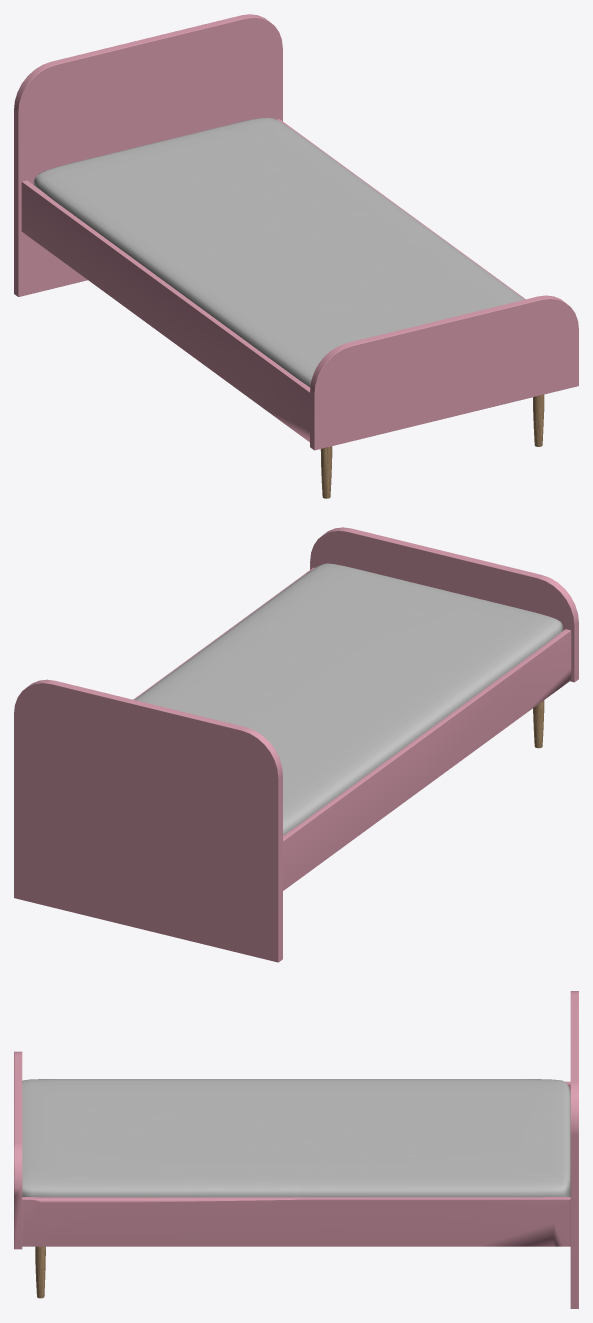
Rendered from B0718WYQ8D.glb.
3 renders of one model, top to bottom at view 1: azimuth 30°, elevation 25°; view 2: azimuth 150°, elevation 25°; view 3: azimuth 270°, elevation 25°, orthographic. The views are drawn at different scales.
Visible parts, largest first — view 1: RootNode; view 2: RootNode; view 3: RootNode.
Part boxes in pixels (<box>): RootNode: <box>14,14,578,498</box>; RootNode: <box>14,527,578,962</box>; RootNode: <box>14,991,578,1308</box>.
Bounding box in the file's own units: 0.9981 × 0.8047 × 1.96.
Materials: 1 (1 with a texture image).
